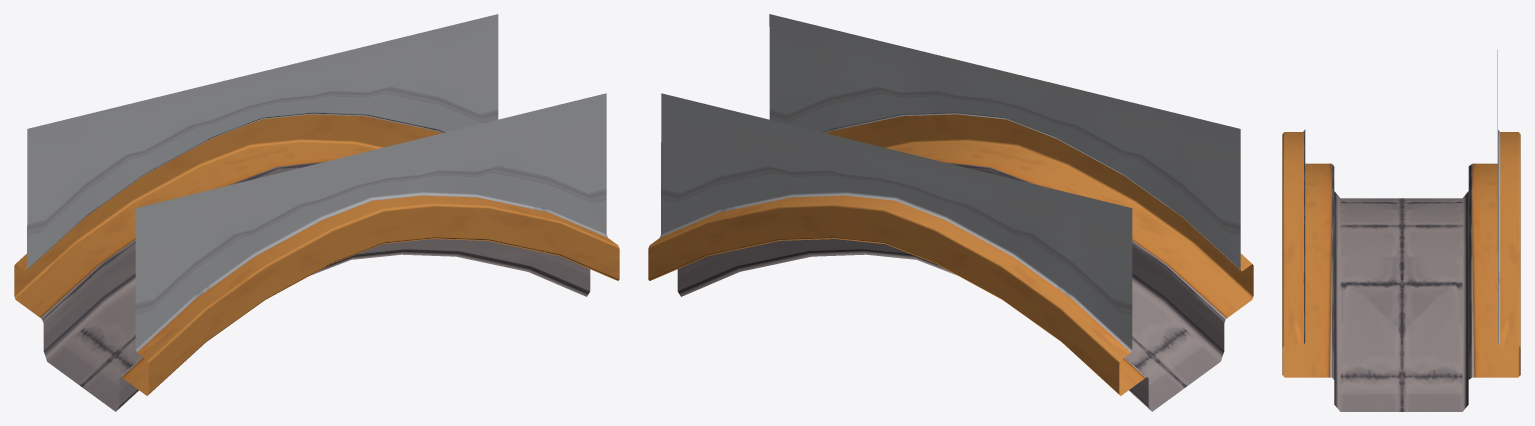
File: SM_WallArchRound.fbx
3 renders of one model, left to right at view 1: azimuth 30°, elevation 25°; view 2: azimuth 150°, elevation 25°; view 3: azimuth 270°, elevation 25°, orthographic. The views are drawn at different scales.
Parts seen in each view (by area): view 1: SM_WallArchRound; view 2: SM_WallArchRound; view 3: SM_WallArchRound.
Part boxes in pixels (left/top/right/bottom): SM_WallArchRound: left=14, top=14, right=619, bottom=411; SM_WallArchRound: left=648, top=14, right=1253, bottom=411; SM_WallArchRound: left=1282, top=50, right=1520, bottom=411.
Size of the model in its own units: 2 by 0.8855 by 0.9877.
